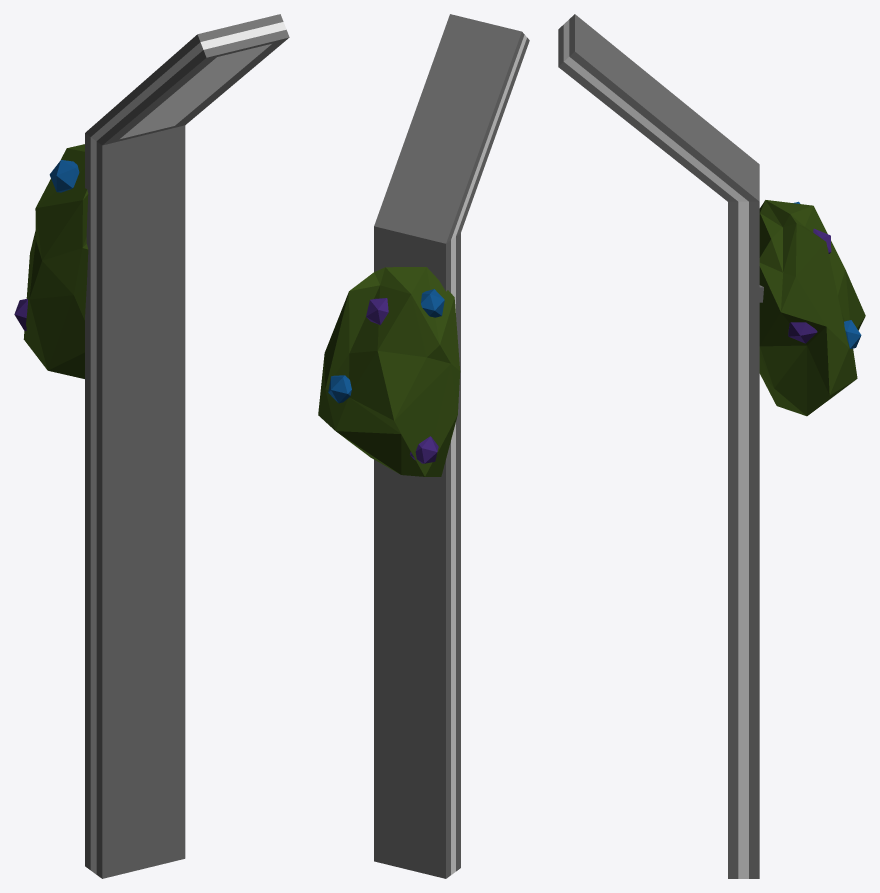
Rendered from StreetLightLvl1.fbx.
3 views of the same model, side by side, from view 1: azimuth 30°, elevation 25°; view 2: azimuth 150°, elevation 25°; view 3: azimuth 270°, elevation 25° (orthographic). The views are drawn at different scales.
Parts seen in each view (by area): view 1: Cube.100; view 2: Cube.100; view 3: Cube.100.
Boxes of the visible parts, <box> form: Cube.100: <box>14,14,289,878</box>; Cube.100: <box>318,14,529,878</box>; Cube.100: <box>558,14,865,878</box>.
Bounding box in the file's own units: 29.81 × 178 × 59.51.
